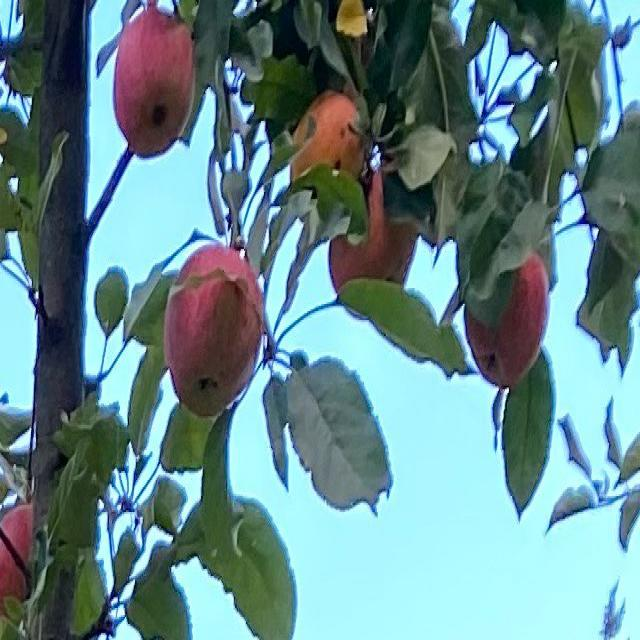Apples: (165, 247, 264, 411), (329, 171, 418, 318), (114, 7, 194, 157), (464, 252, 549, 386), (291, 90, 365, 196), (0, 498, 33, 615)
